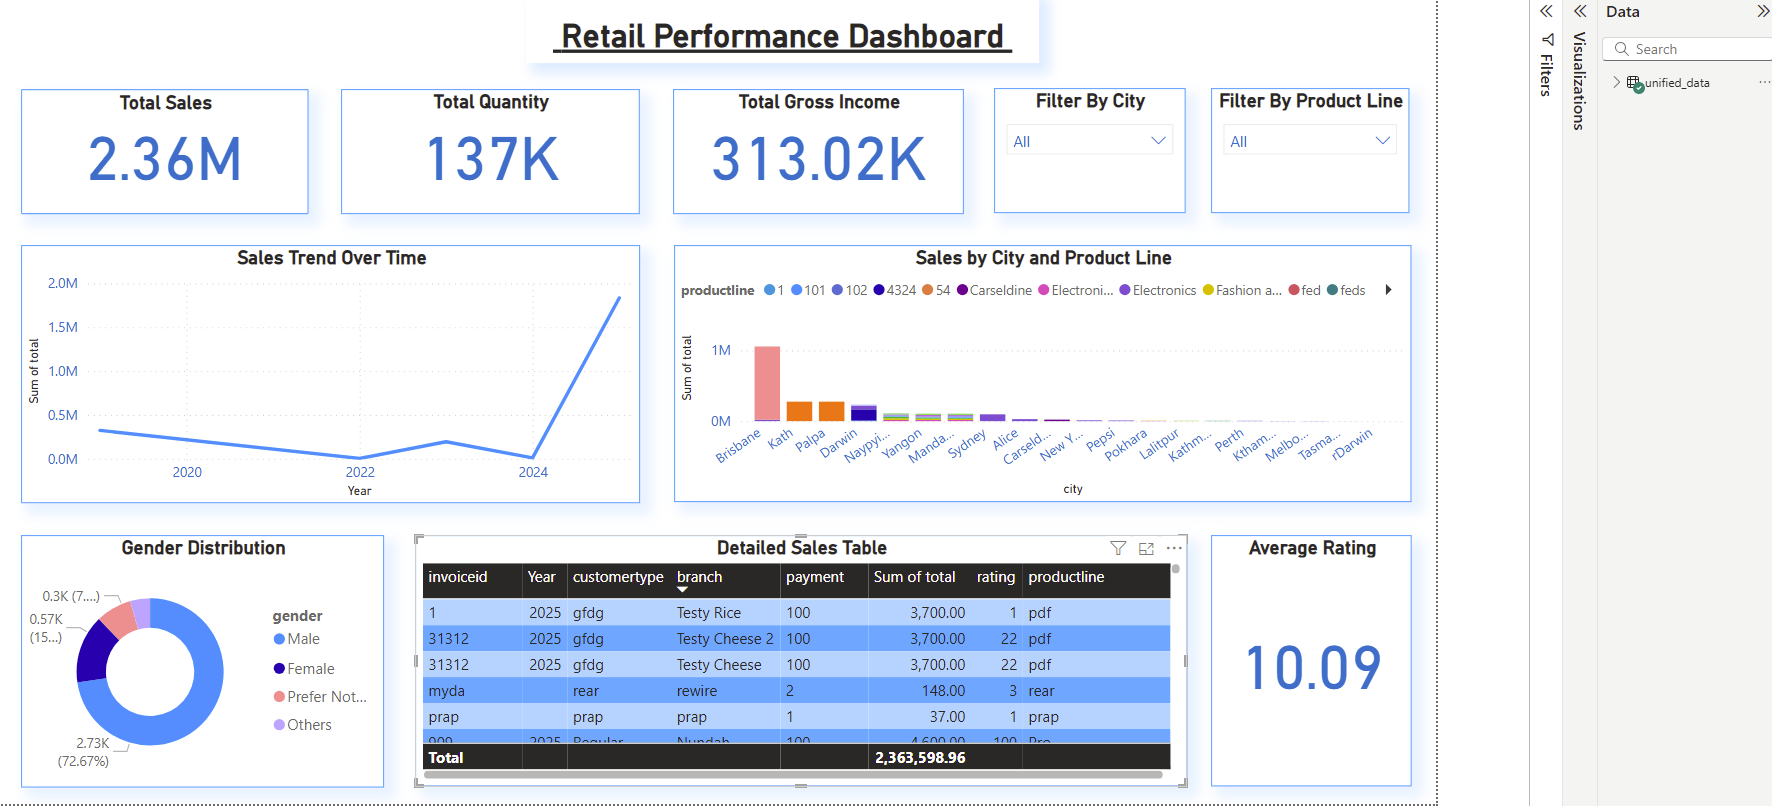

The page's visual inventory and layout, read from the dashboard file:
{"tool":"powerbi","page":{"name":"Page 1","canvas":[1280,720],"ordinal":0},"visuals":[{"type":"card","title":"Total Sales ","fields":{"Values":["Sum(unified_data.total)"]},"box":[25.3,85.6,254.8,110.9],"z":0},{"type":"card","title":"Total Quantity","fields":{"Values":["Sum(unified_data.quantity)"]},"box":[309.3,85.6,264.6,110.9],"z":1000},{"type":"card","title":"Total Gross Income","fields":{"Values":["Sum(unified_data.grossincome)"]},"box":[604,85.6,257.8,110.9],"z":2000},{"type":"lineChart","title":"Sales Trend Over Time","fields":{"Category":["unified_data.date.Variation.Date Hierarchy.Year"],"Y":["Sum(unified_data.total)"]},"box":[25.5,224.4,549.5,229.5],"z":3000},{"type":"columnChart","title":"Sales by City and Product Line","fields":{"Y":["Sum(unified_data.total)"],"Series":["unified_data.productline"],"Category":["unified_data.city"]},"box":[604.3,224.4,654,228.2],"z":4000},{"type":"donutChart","title":"Gender Distribution ","fields":{"Category":["unified_data.gender"],"Y":["CountNonNull(unified_data.invoiceid)"]},"box":[25.3,481.5,321.9,223.7],"z":5000},{"type":"tableEx","title":"Detailed Sales Table","fields":{"Values":["unified_data.invoiceid","unified_data.date.Variation.Date Hierarchy.Year","unified_data.customertype","unified_data.branch","unified_data.payment","Sum(unified_data.total)","unified_data.rating","unified_data.productline"]},"box":[374.8,481.9,684.6,223.1],"z":6000},{"type":"slicer","title":"Filter By City","fields":{"Values":["unified_data.city"]},"box":[888.6,85.4,169.6,110.9],"z":7000},{"type":"slicer","title":"Filter By Product Line","fields":{"Values":["unified_data.productline"]},"box":[1081.1,85.4,175.9,110.9],"z":8000},{"type":"textbox","box":[473.7,0,455.2,63.2],"z":9000},{"type":"card","title":"Average Rating","fields":{"Values":["Avg(unified_data.rating)"]},"box":[1081.1,481.9,178.5,223.1],"z":10000}]}

Visuals, with their boxes on the page's 1280x720 design canvas (x1, y1, x2, y2). These are canvas units, not pixel positions in the 1772x806 screenshot, which may show the page scaled, cropped or inside an application window:
"Total Sales " card: 25 86 280 196
"Total Quantity" card: 309 86 574 196
"Total Gross Income" card: 604 86 862 196
"Sales Trend Over Time" lineChart: 26 224 575 454
"Sales by City and Product Line" columnChart: 604 224 1258 453
"Gender Distribution " donutChart: 25 482 347 705
"Detailed Sales Table" tableEx: 375 482 1059 705
"Filter By City" slicer: 889 85 1058 196
"Filter By Product Line" slicer: 1081 85 1257 196
textbox: 474 0 929 63
"Average Rating" card: 1081 482 1260 705
